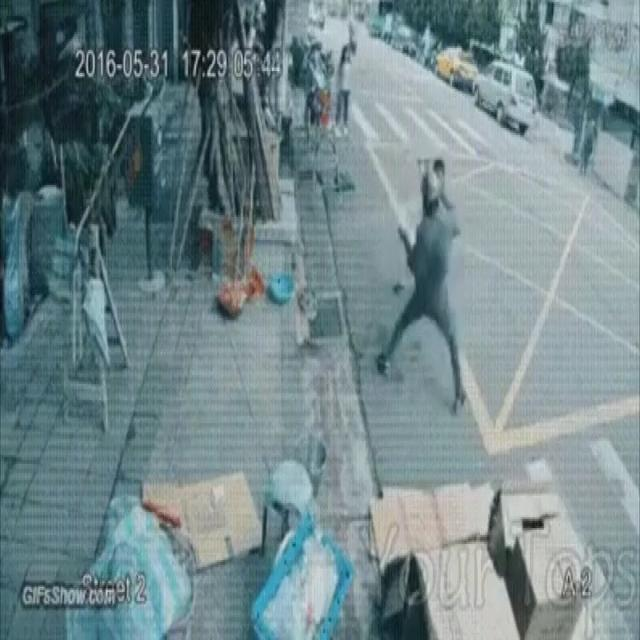fight: (396, 153, 478, 404)
